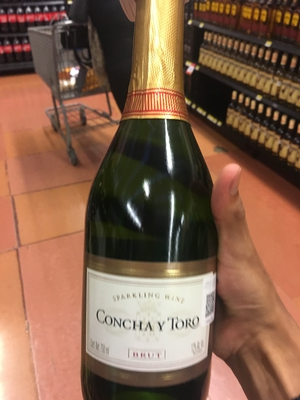brut: (73, 5, 233, 400)
